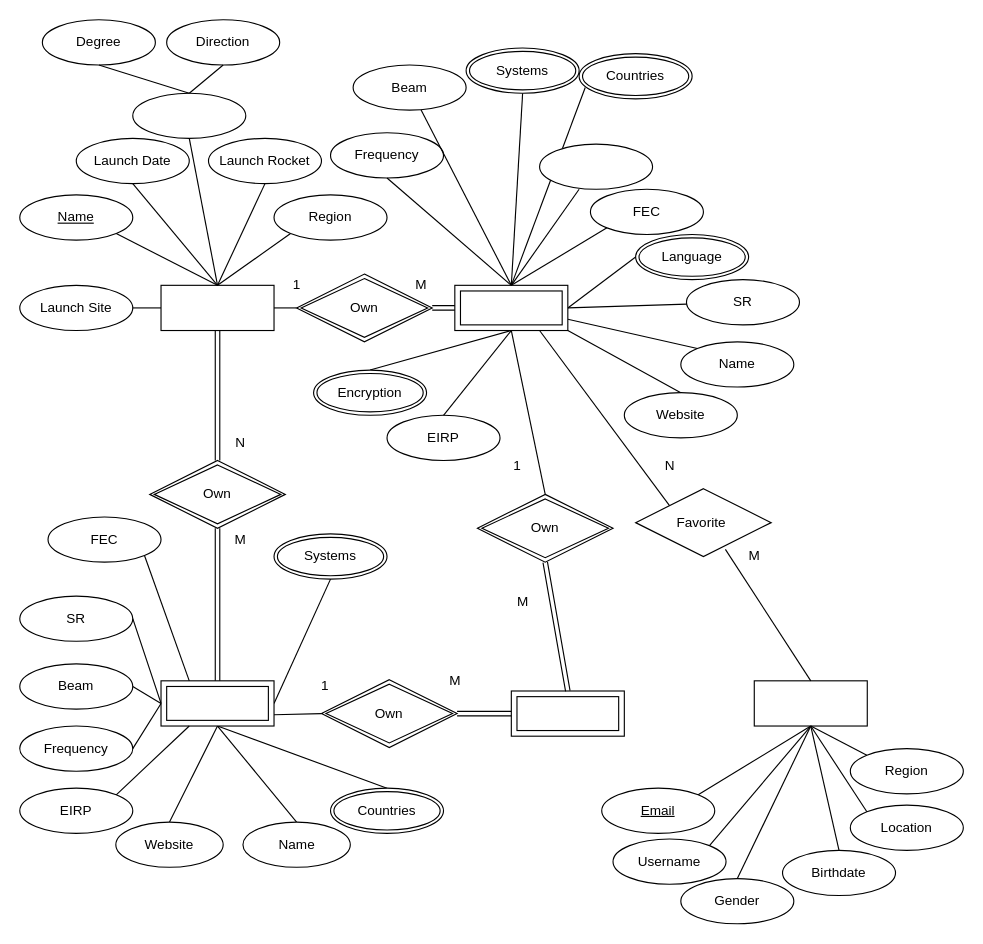
Image size: 983x944. Some labels were removed from this diagram. The centre of each missing label's shape, as x and y in pixels:
Channel: the point at 511,307
Network: the point at 217,703
NetworkChanel: the point at 567,713
Position: the point at 189,115
Satellite: the point at 217,307
User: the point at 810,703
VideoEncoding: the point at 595,166
